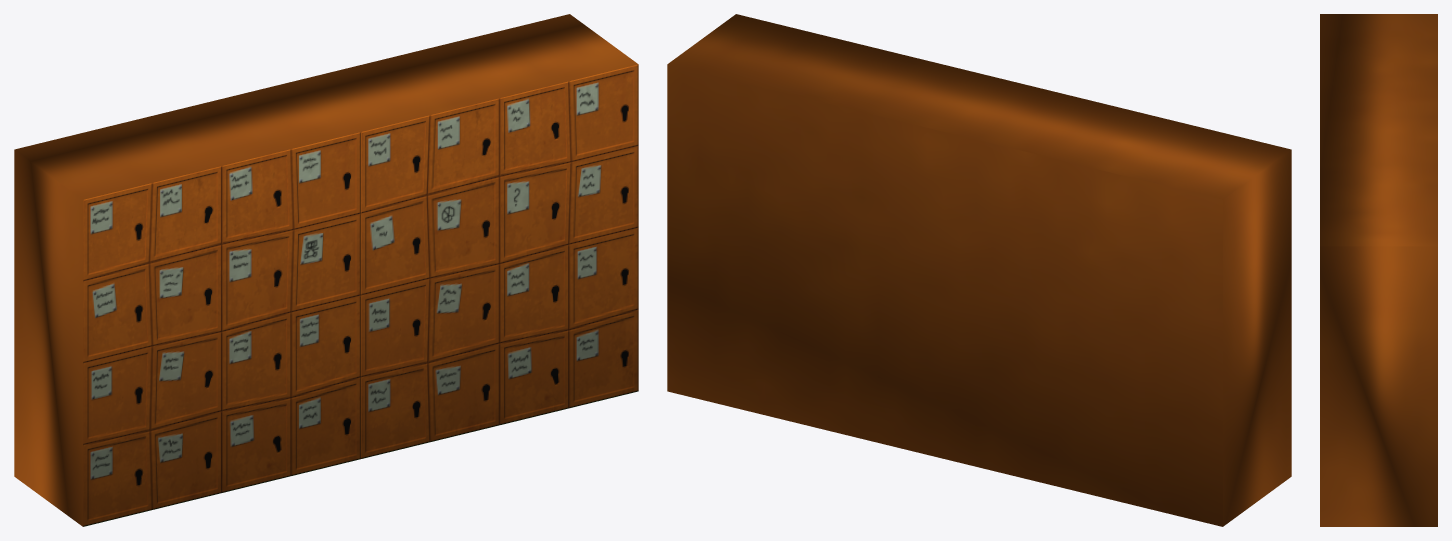
Rendered from lockers_02.fbx.
3 views of the same model, side by side, from view 1: azimuth 30°, elevation 25°; view 2: azimuth 150°, elevation 25°; view 3: azimuth 270°, elevation 25° (orthographic). The views are drawn at different scales.
Parts seen in each view (by area): view 1: lockers_orange; view 2: lockers_orange; view 3: lockers_orange.
Part boxes in pixels (bbox=[...]): lockers_orange: bbox=[14, 14, 638, 526]; lockers_orange: bbox=[667, 14, 1291, 526]; lockers_orange: bbox=[1320, 14, 1437, 526].
Size of the model in its own units: 439 by 247 by 94.25.
